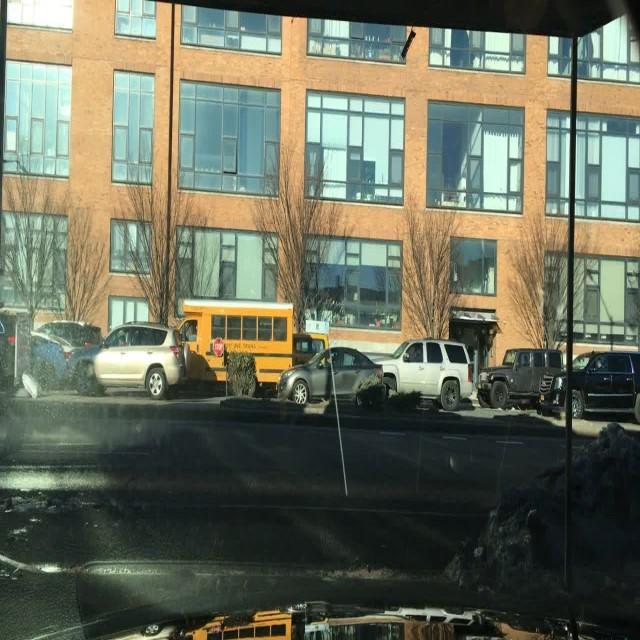normal: (535, 346, 639, 420), (379, 337, 478, 410), (91, 325, 185, 401), (278, 345, 394, 406), (480, 345, 567, 408)
